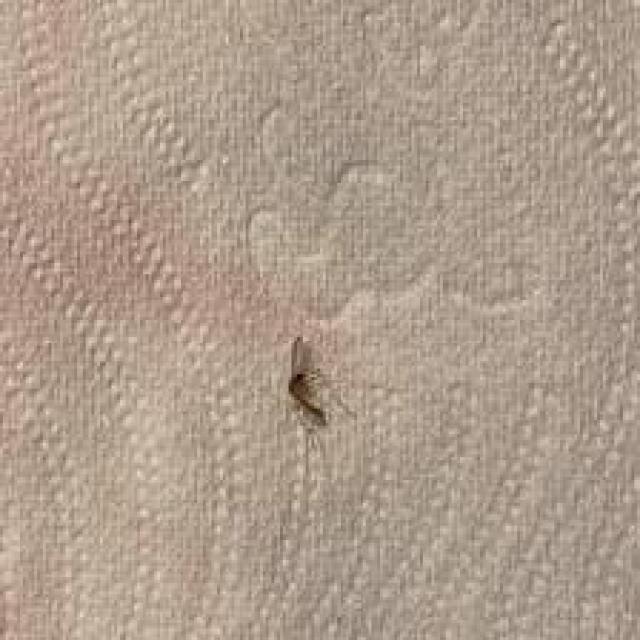Culex: (286, 334, 357, 429)
